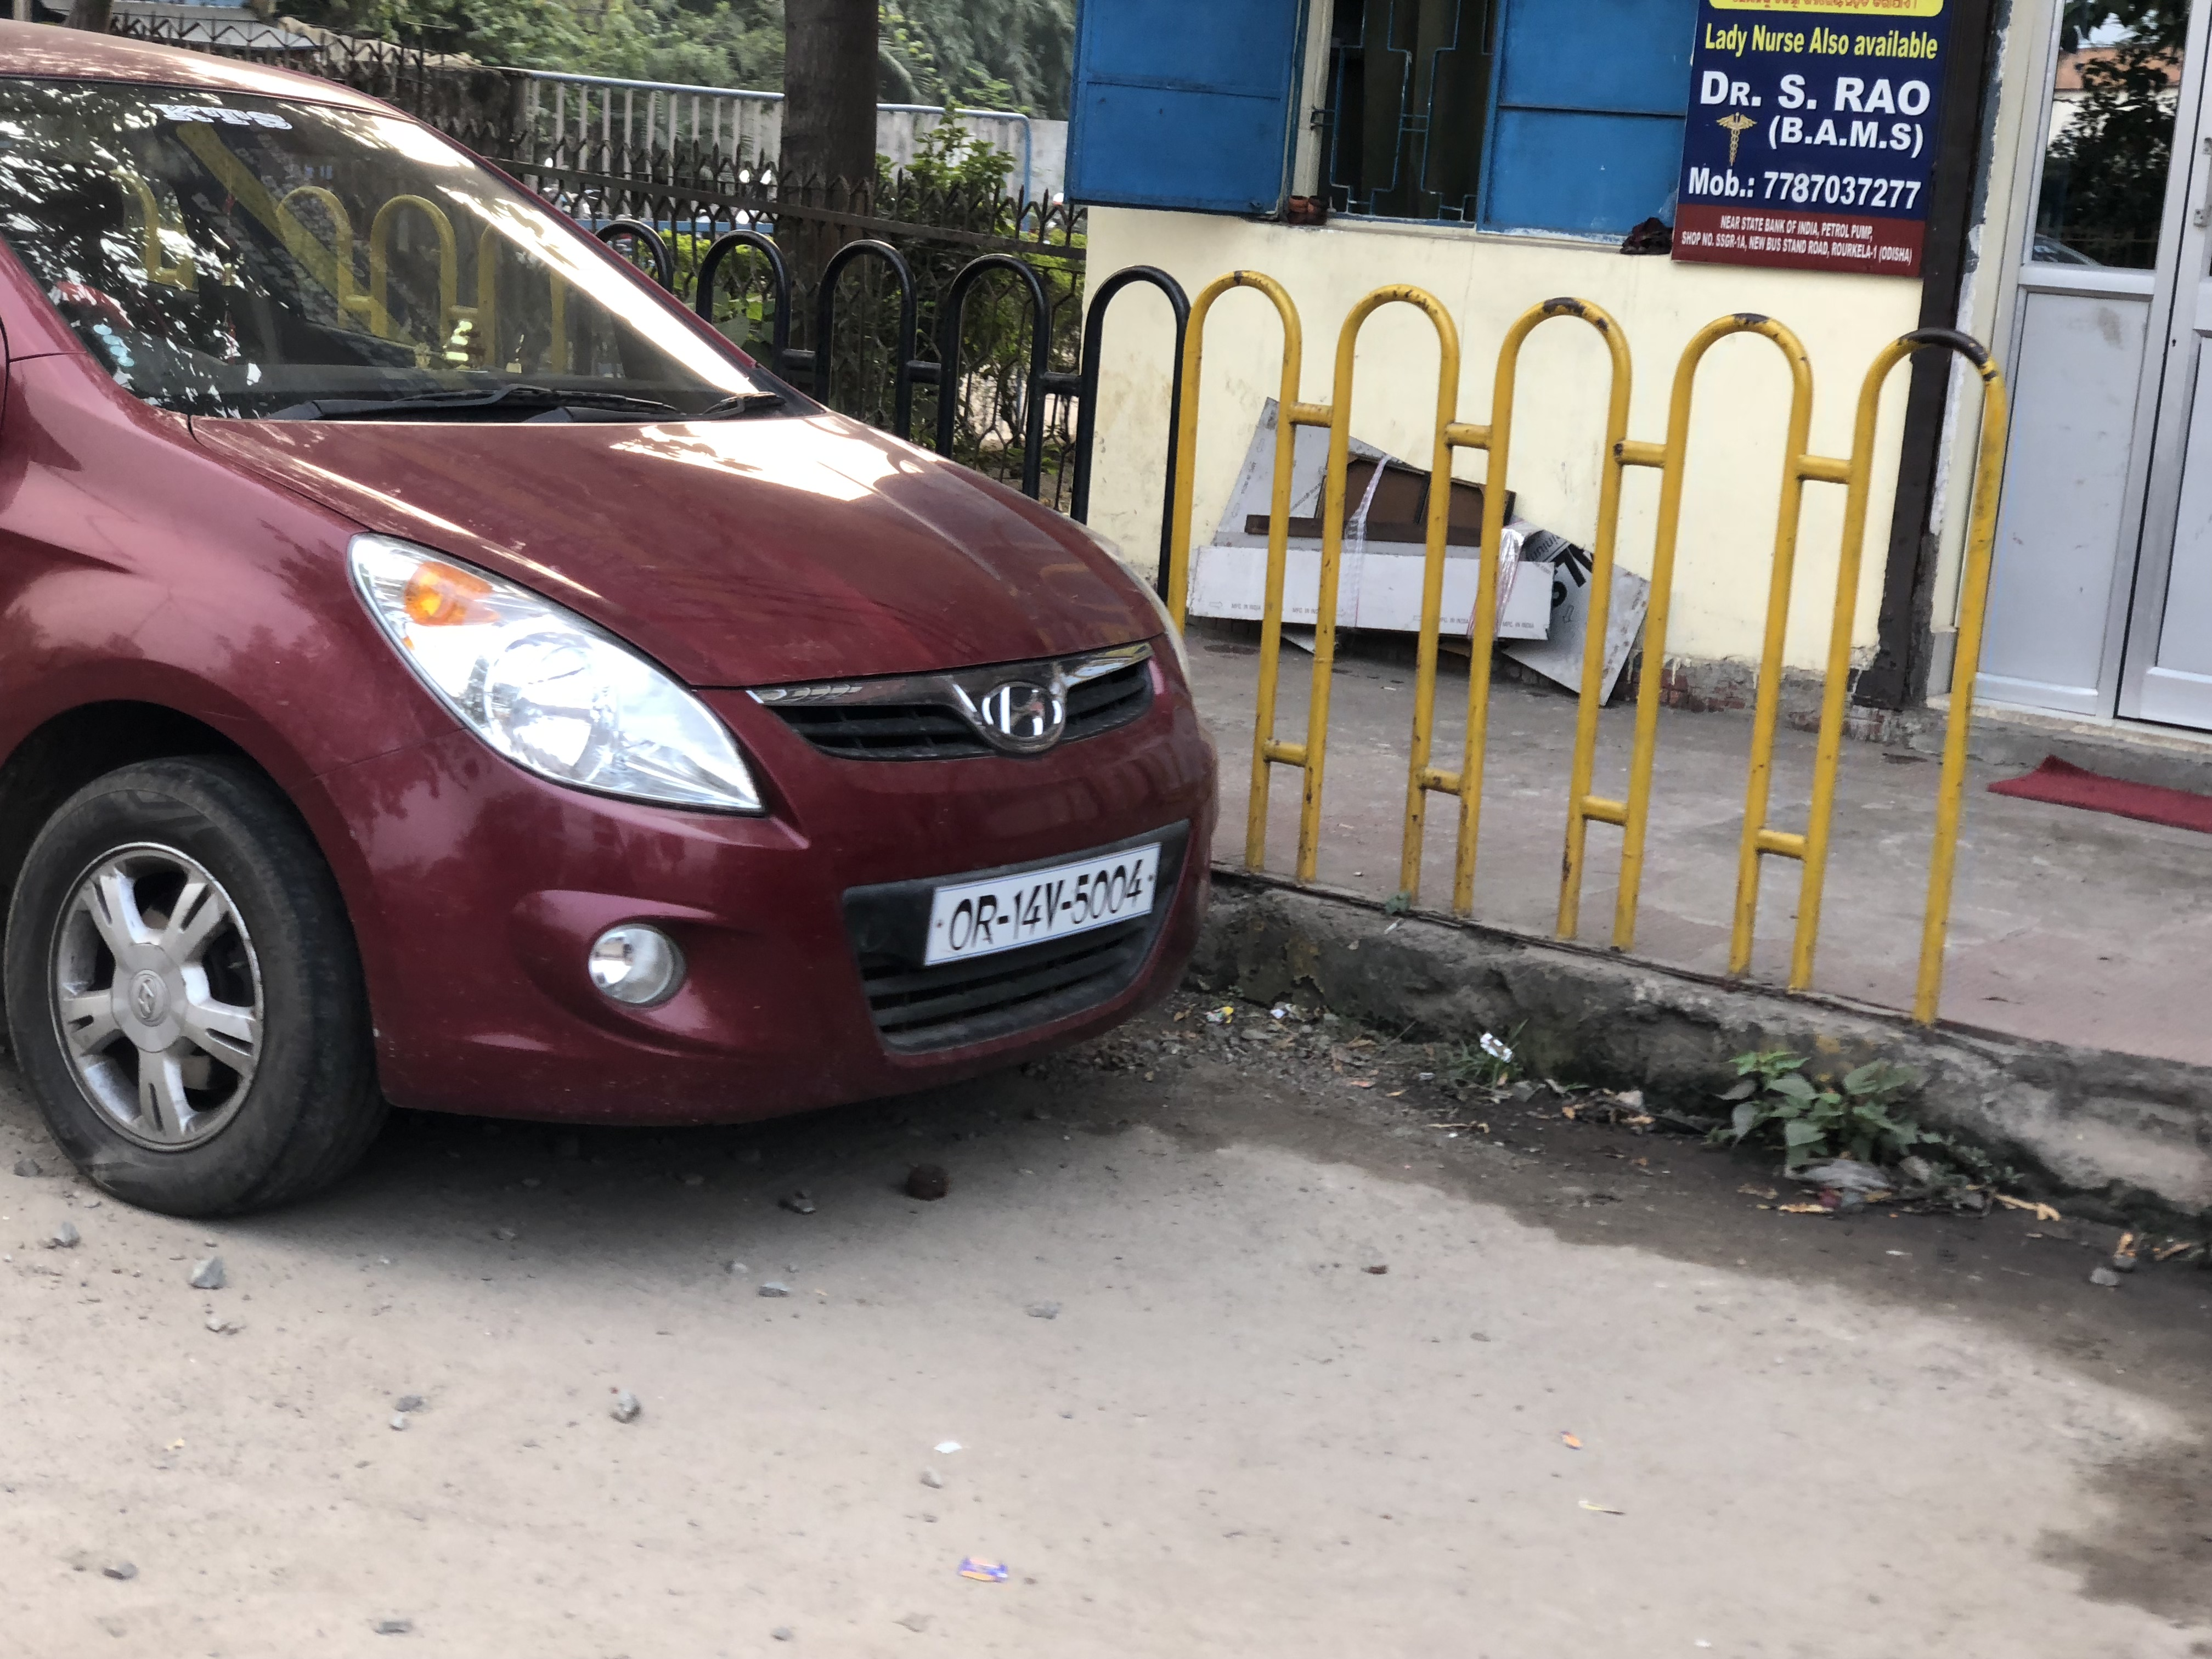licenseplate: (909, 844, 1168, 954)
